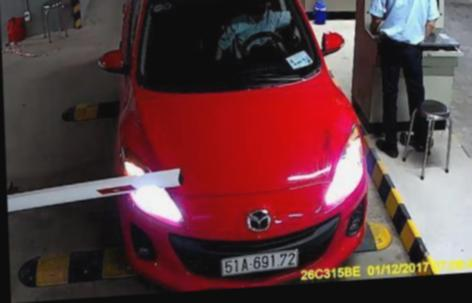License_Plate: (218, 248, 299, 277)
